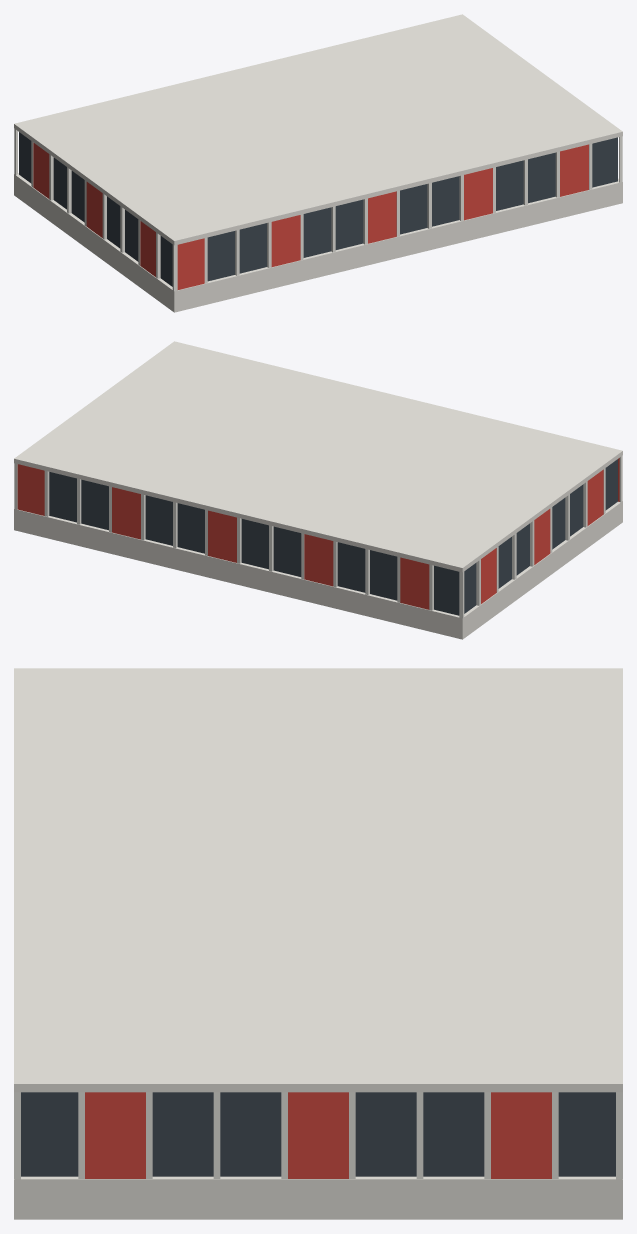
The model's file is tower_band.glb.
The picture shows the model from 3 angles, top to bottom: view 1: azimuth 30°, elevation 25°; view 2: azimuth 150°, elevation 25°; view 3: azimuth 270°, elevation 25°; orthographic projection. The views are drawn at different scales.
Visible parts, largest first — view 1: tower_band; view 2: tower_band; view 3: tower_band.
Part boxes in pixels (x1,y1,x2,y2): tower_band: [14, 14, 622, 312]; tower_band: [14, 341, 622, 639]; tower_band: [14, 668, 622, 1219].
Size of the model in its own units: 21 by 3.2 by 13.
